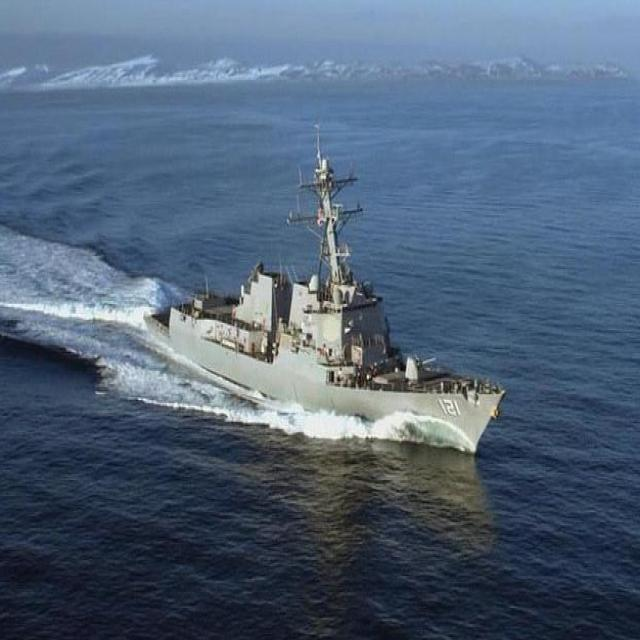navalvessels: (148, 122, 502, 458)
